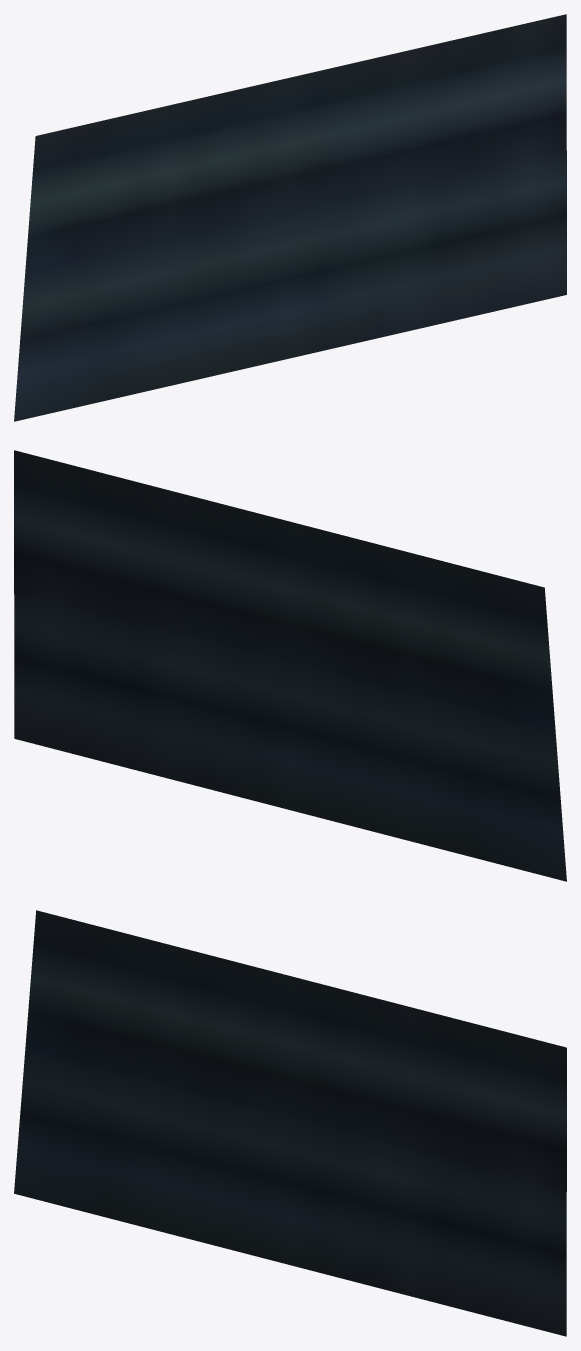
3 renders of one model, top to bottom at view 1: azimuth 30°, elevation 25°; view 2: azimuth 150°, elevation 25°; view 3: azimuth 330°, elevation 25°, orthographic. The views are drawn at different scales.
Visible parts, largest first — view 1: geometry_0; view 2: geometry_0; view 3: geometry_0.
Boxes of the visible parts, x1,y1,x2,y2 form: geometry_0: (14, 14, 566, 421); geometry_0: (14, 450, 566, 881); geometry_0: (14, 910, 566, 1336).
Size of the model in its own units: 6.79 by 3.34 by 0.1766.
1 material, 1 textured.
